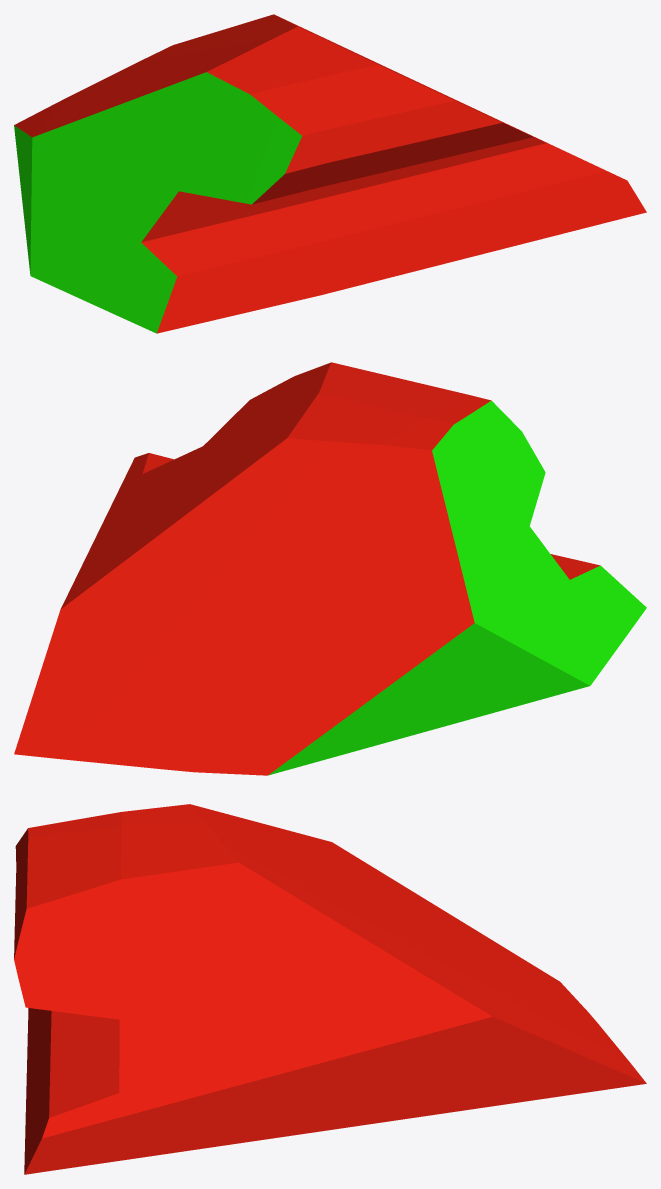
Rendered from SM_Fence1m_Half-Broken_01.019.fbx.
3 views of the same model, one above another, from view 1: azimuth 30°, elevation 25°; view 2: azimuth 150°, elevation 25°; view 3: azimuth 270°, elevation 25° (orthographic). The views are drawn at different scales.
Visible parts, largest first — view 1: SM_Fence1m_Half-Broken_01.019; view 2: SM_Fence1m_Half-Broken_01.019; view 3: SM_Fence1m_Half-Broken_01.019.
Boxes of the visible parts, <box> form: SM_Fence1m_Half-Broken_01.019: <box>14,14,646,333</box>; SM_Fence1m_Half-Broken_01.019: <box>14,362,646,775</box>; SM_Fence1m_Half-Broken_01.019: <box>14,804,646,1174</box>.
Bounding box in the file's own units: 0.4124 × 0.1334 × 0.4045.
